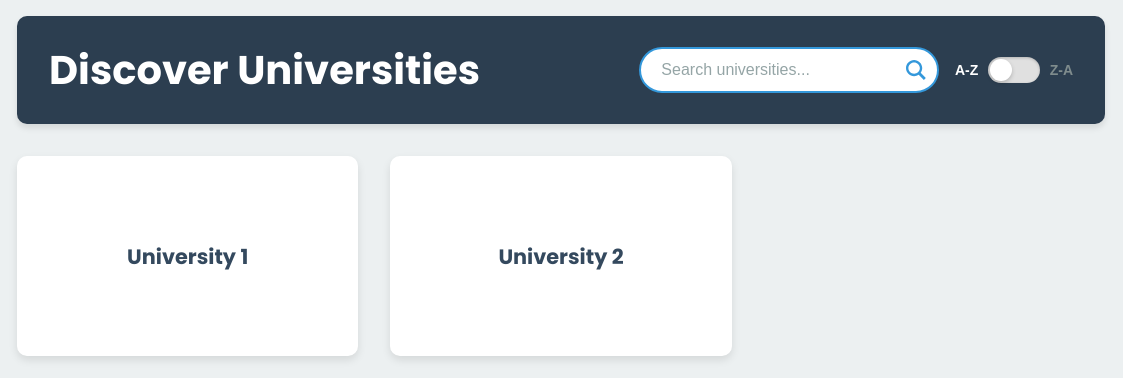
Test case: UniversityListing Component › filters universities based on search term
Expected: the heading "University 1" is shown, [127,242,248,270]
Expected: the heading "University 2" is shown, [498,242,624,270]
Type "University 1" into the field at (789, 70), box [639,47,939,93]
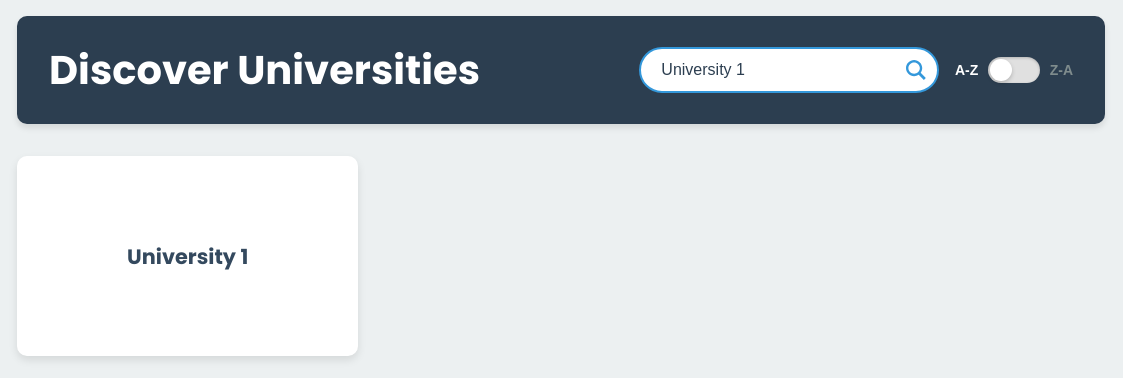
Expected: the heading "University 1" is shown, [127,242,248,270]
Expected: the heading "University 2" is gone
